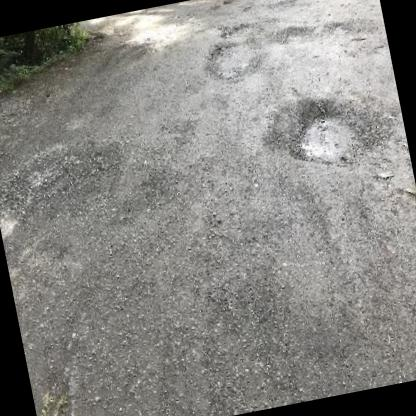pothole: (0, 128, 135, 232), (261, 84, 385, 180), (196, 30, 271, 84), (319, 10, 384, 65), (270, 20, 316, 48)
